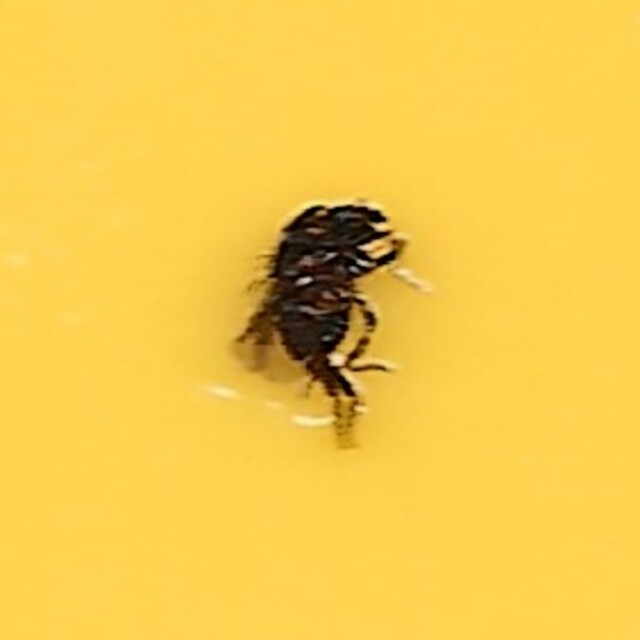Brachycera: (227, 192, 413, 448)
